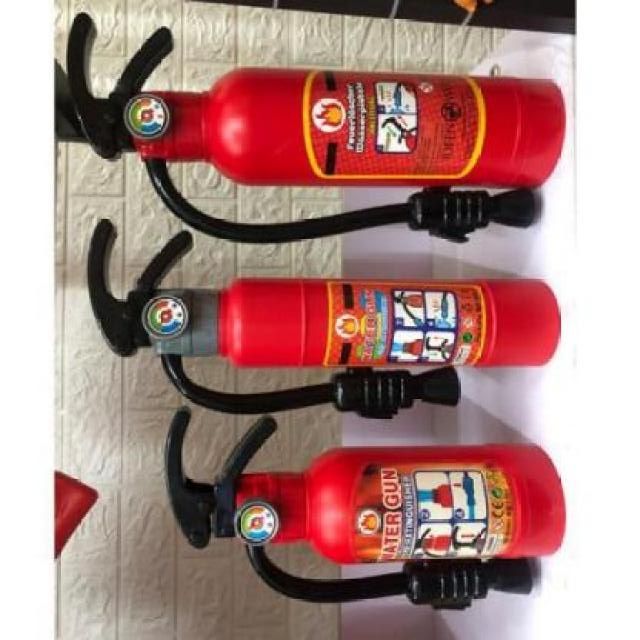fire extinguisher: (55, 11, 568, 245), (86, 218, 562, 422), (163, 407, 566, 611)
